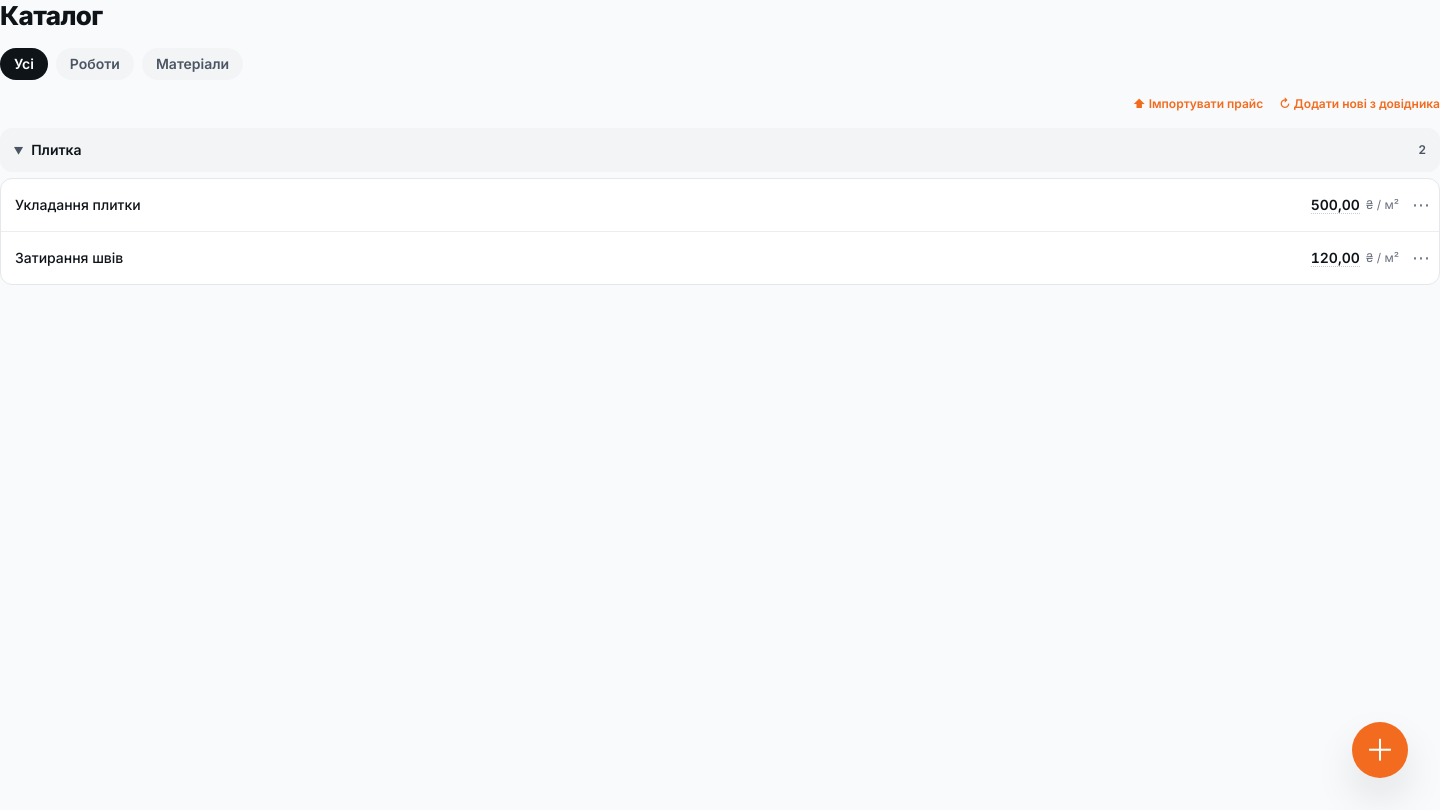
Scenario: CatalogPage — the master arranges and prunes his own catalog › offers add / delete-positions / delete-all behind the FAB
Expected: the button "Укладання плитки" is shown, [15,196,141,213]
Click the button named "Дії з каталогом": (1380, 750) [1352,722,1408,778]
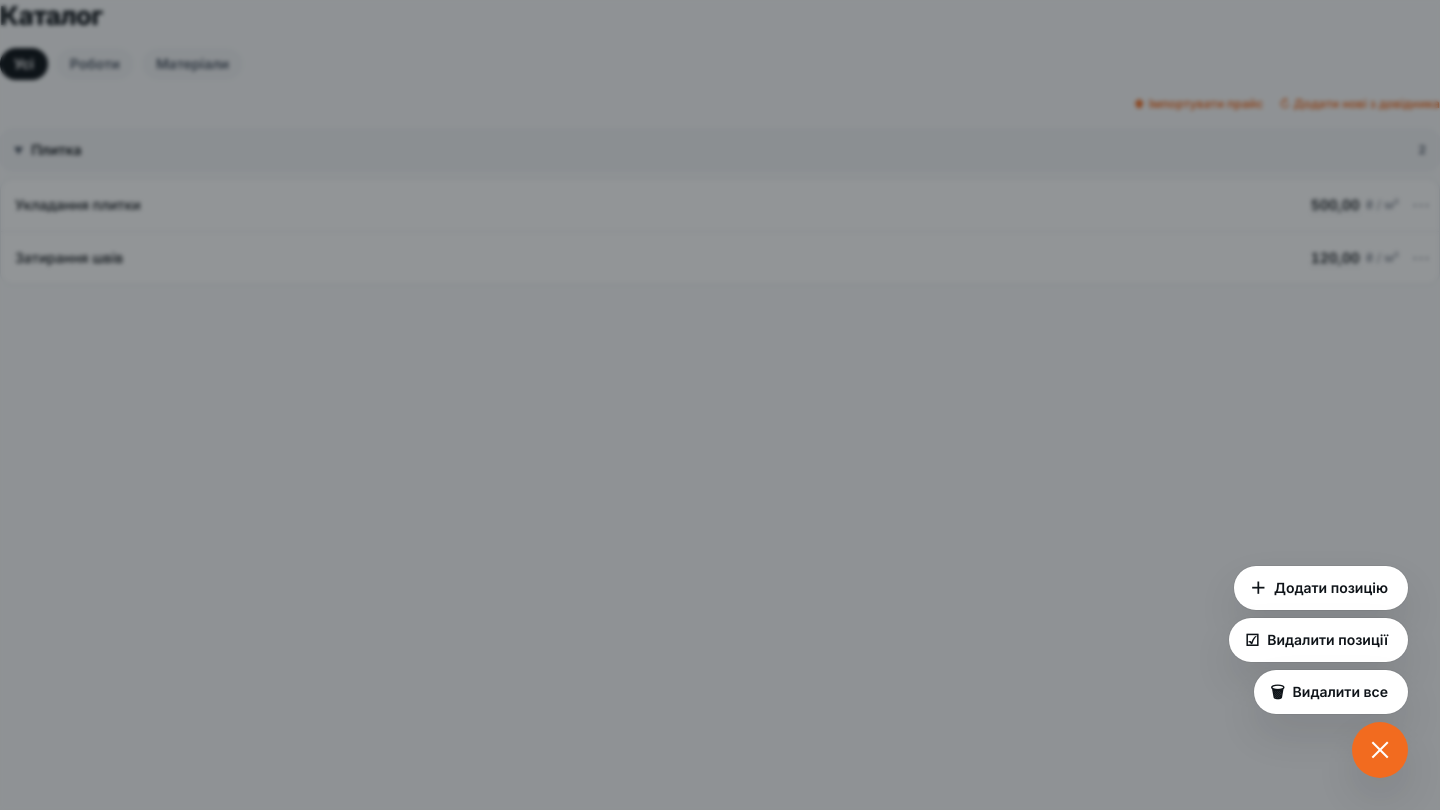
Now the button "☑ Видалити позиції" is shown, box [1229,618,1408,662]
Now the button "🗑 Видалити все" is shown, box [1254,670,1408,714]
